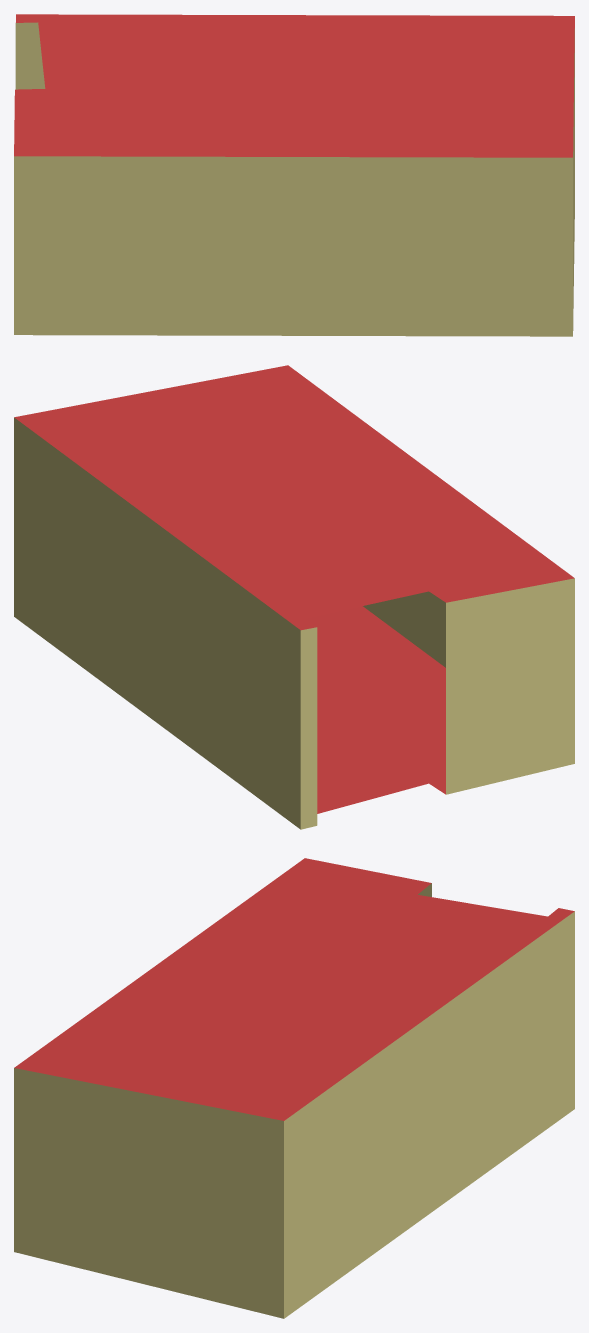
3 views of the same model, one above another, from view 1: azimuth 30°, elevation 25°; view 2: azimuth 150°, elevation 25°; view 3: azimuth 270°, elevation 25° (orthographic). The views are drawn at different scales.
Parts seen in each view (by area): view 1: group_4, group_3; view 2: group_4, group_3, group_5; view 3: group_4, group_3.
Boxes of the visible parts, left/top/right/bottom form: group_4: left=14, top=22, right=574, bottom=336; group_3: left=14, top=14, right=574, bottom=157; group_4: left=14, top=417, right=574, bottom=829; group_3: left=14, top=365, right=574, bottom=630; group_5: left=305, top=606, right=445, bottom=813; group_4: left=14, top=883, right=574, bottom=1318; group_3: left=14, top=858, right=574, bottom=1120.
Size of the model in its own units: 20.48 by 17.55 by 6.83.
